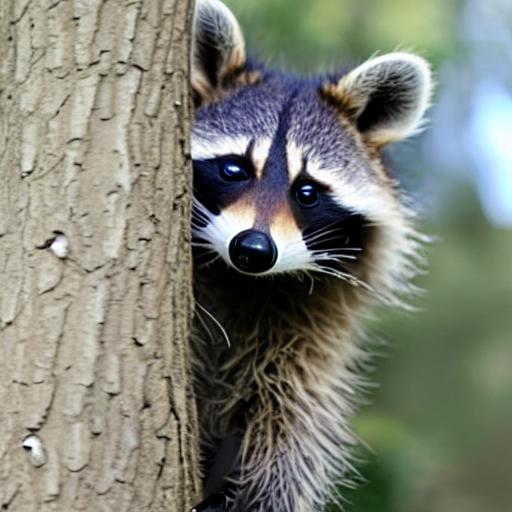raccoon: (187, 0, 455, 512)
